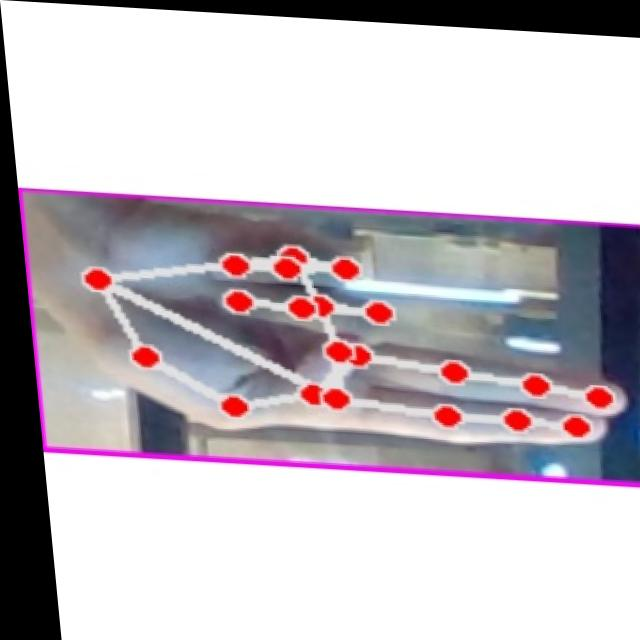H: (49, 199, 640, 457)
